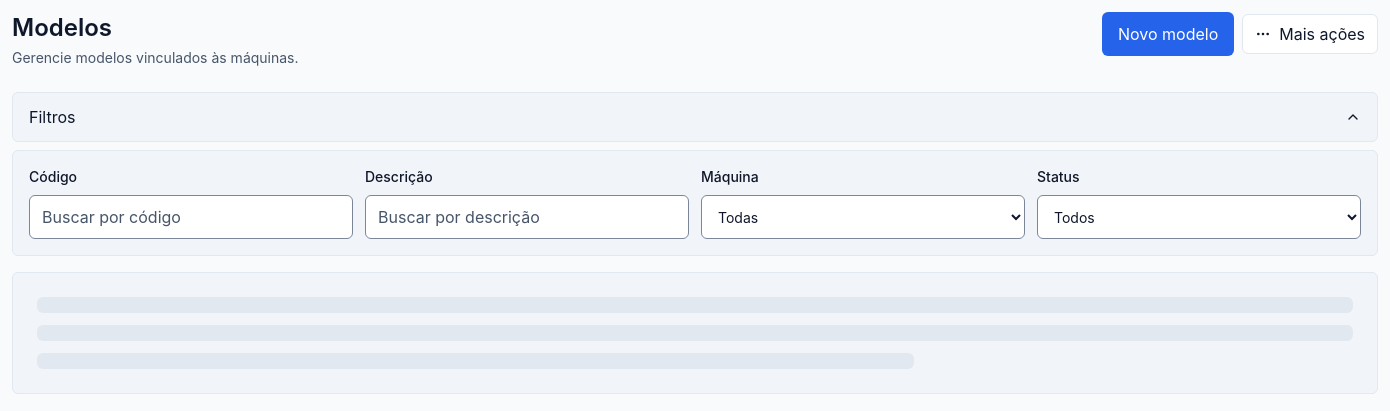
Scenario: ModelosPage cabeçalho › deve listar Exportar PDF no menu quando Mais ações é aberto
The image size is (1390, 411).
Click the button "Mais ações": (1310, 34) [1242,14,1378,54]
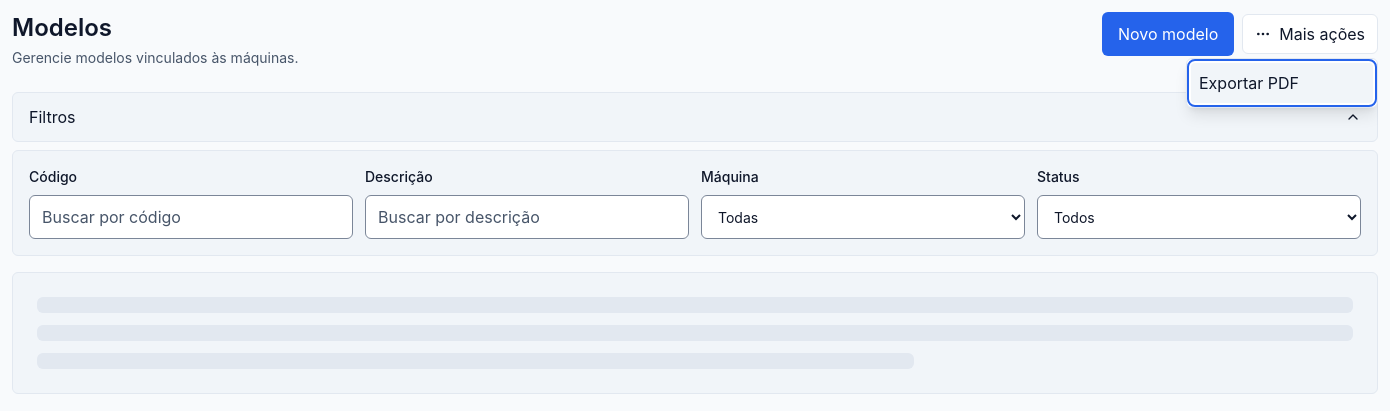
Result: the menu item "Exportar PDF" is shown at [1191,63,1373,103]
